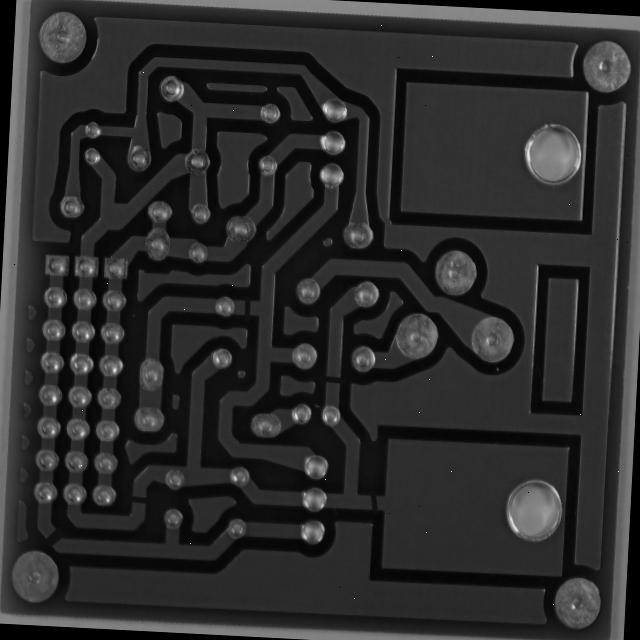open_circuit: (90, 523, 124, 551), (5, 559, 33, 591), (346, 525, 370, 555), (298, 396, 329, 419), (215, 314, 233, 344)
